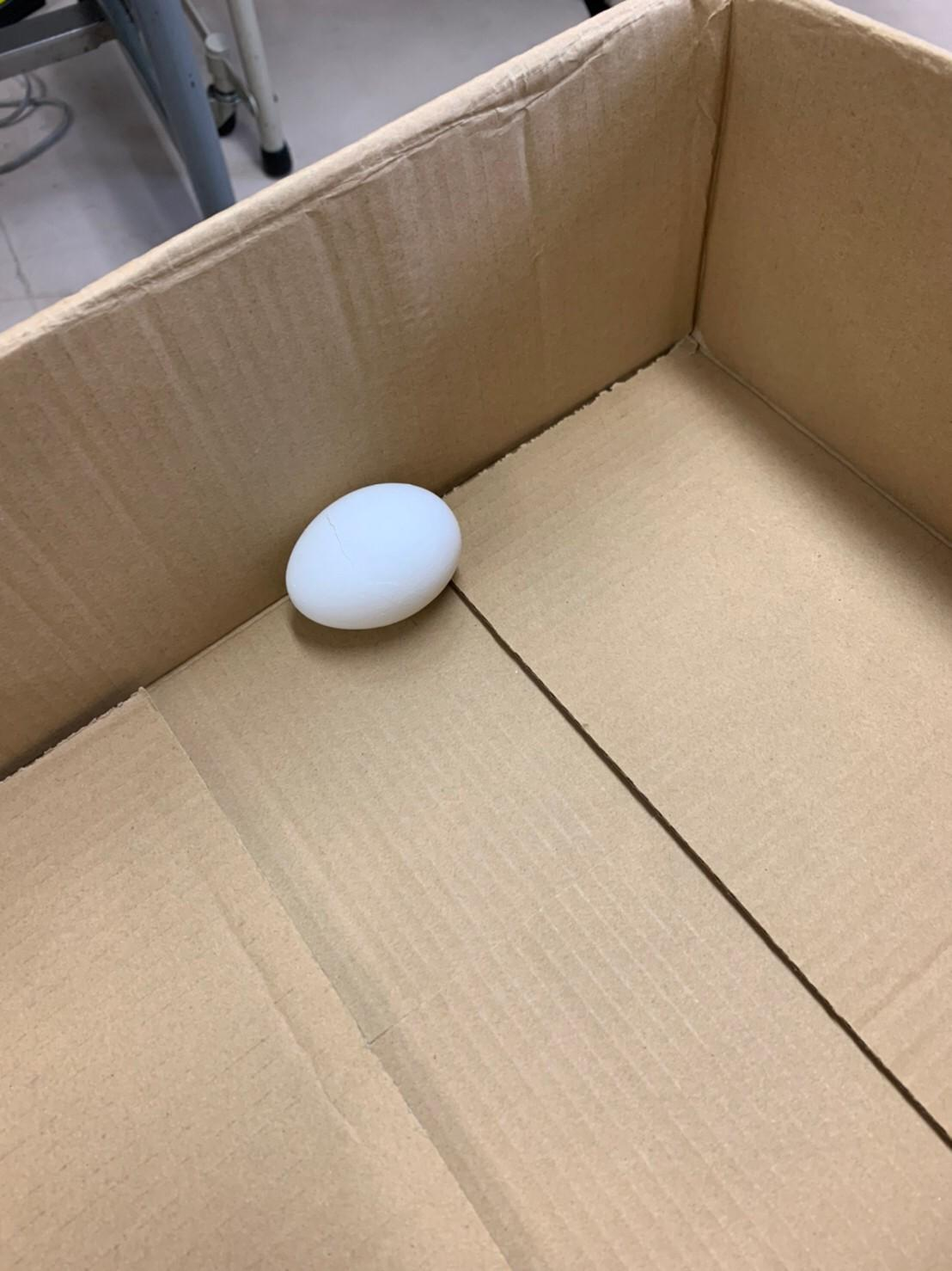egg: (285, 479, 462, 633)
